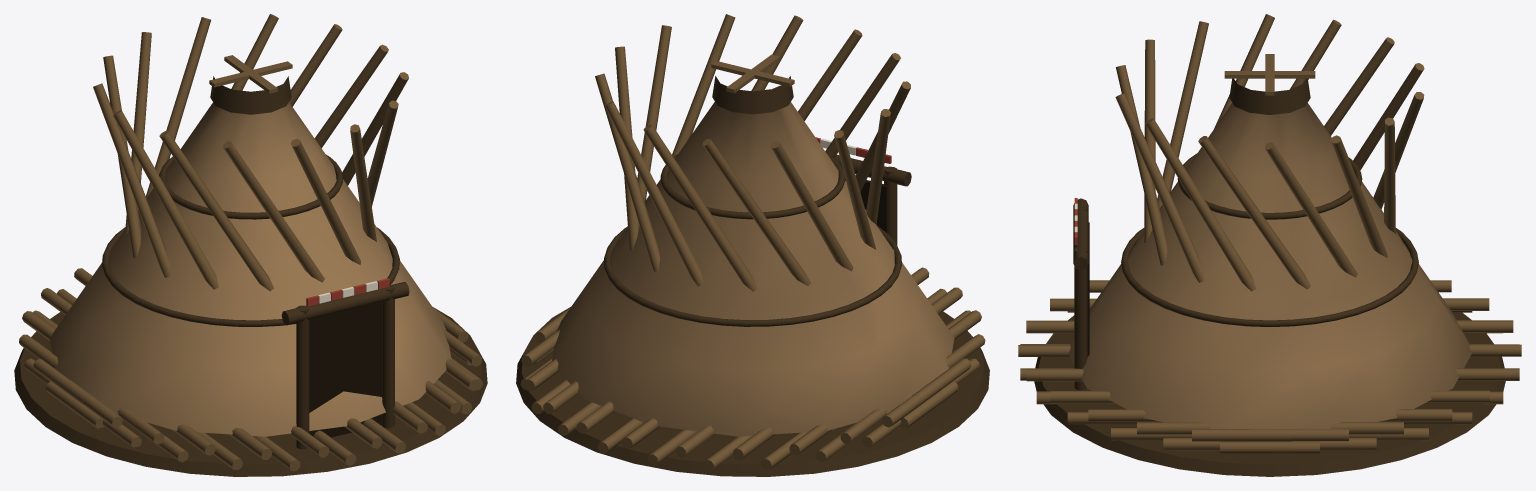
The model's file is Urasa.glb.
The picture shows the model from 3 angles, left to right: view 1: azimuth 30°, elevation 25°; view 2: azimuth 150°, elevation 25°; view 3: azimuth 270°, elevation 25°; orthographic projection.
Parts seen in each view (by area): view 1: Urasa; view 2: Urasa; view 3: Urasa.
Boxes of the visible parts, x1,y1,x2,y2 form: Urasa: (14,14,487,476); Urasa: (516,14,989,476); Urasa: (1018,14,1521,476).
Bounding box in the file's own units: 5.94 × 4.21 × 6.31.
